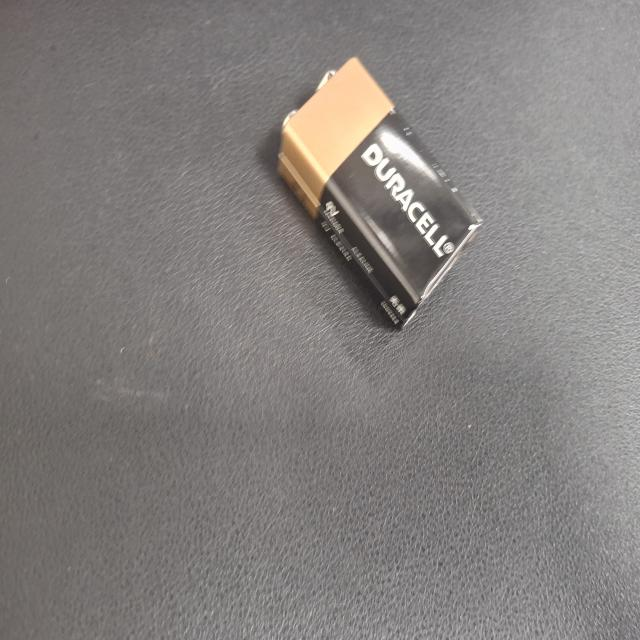9V: (44, 212, 250, 483)
